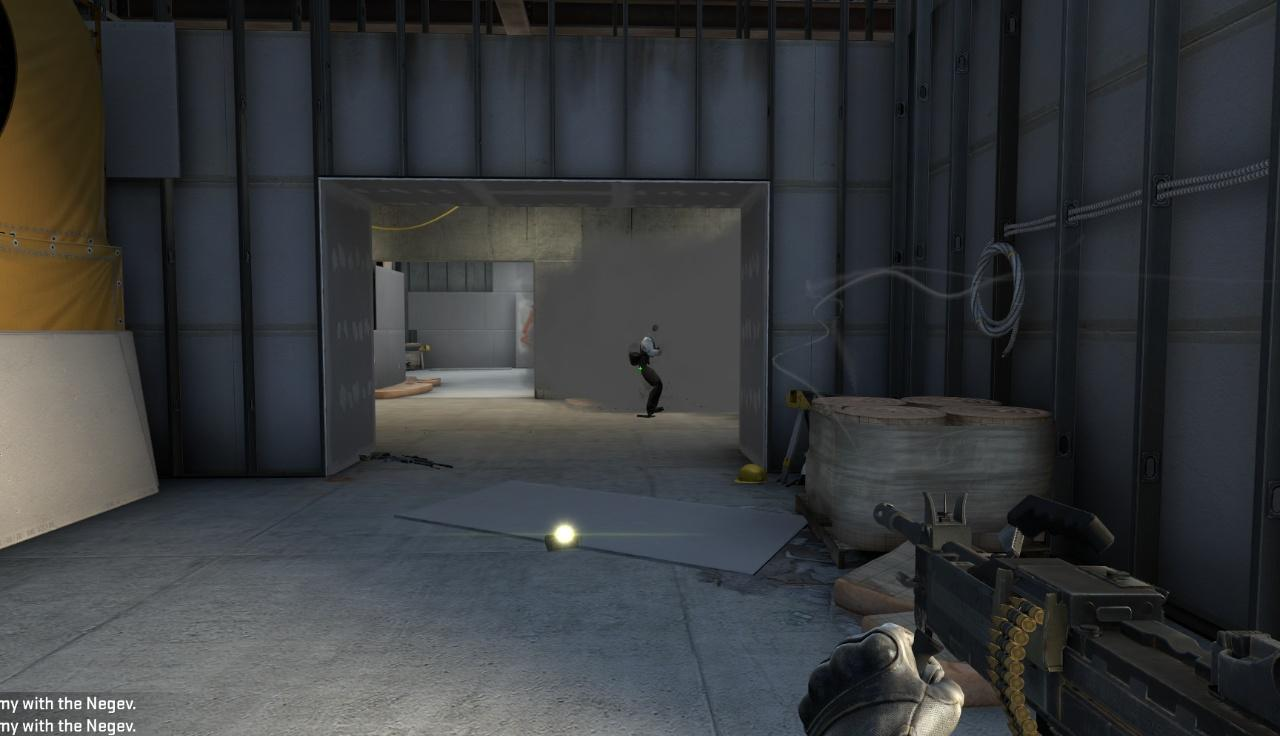rifle: (871, 491, 1280, 735)
tt: (630, 321, 667, 415)
